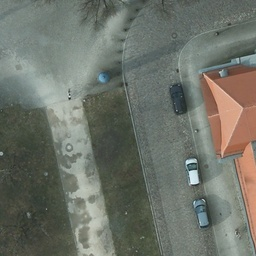car: (169, 83, 189, 116), (193, 197, 211, 229), (185, 158, 200, 188)
